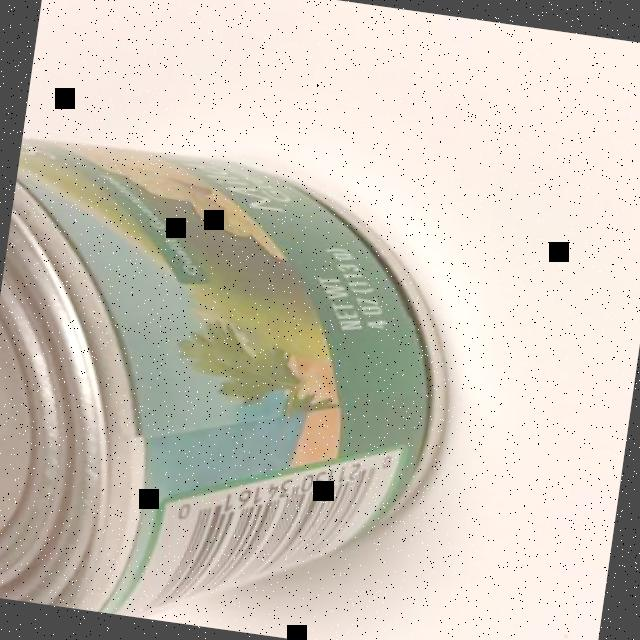can: (0, 123, 487, 640)
